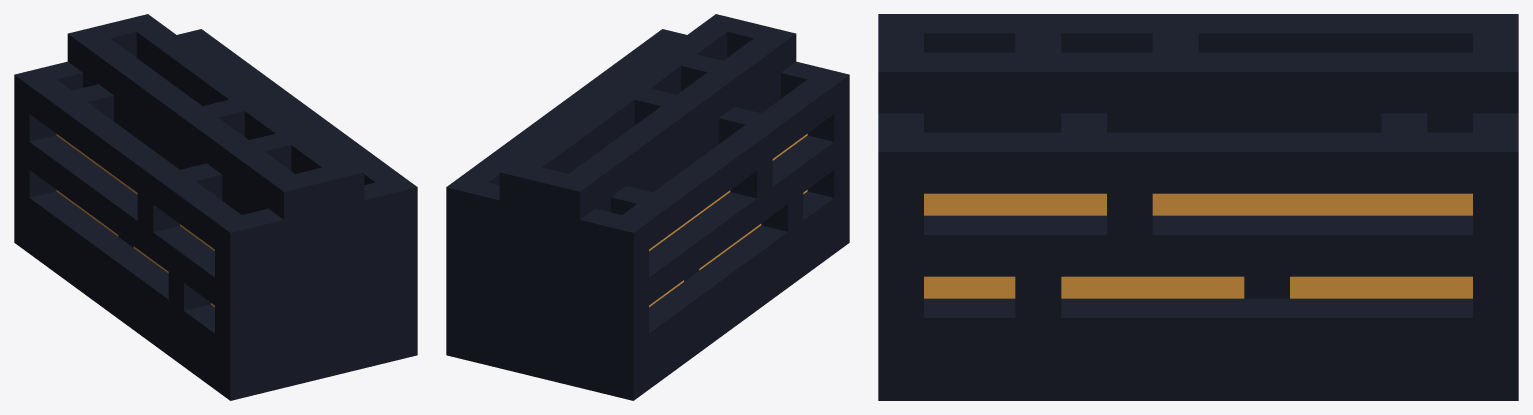
Rendered from ExtenderSmall1.obj.
3 renders of one model, left to right at view 1: azimuth 30°, elevation 25°; view 2: azimuth 150°, elevation 25°; view 3: azimuth 270°, elevation 25°, orthographic. The views are drawn at different scales.
Size of the model in its own units: 7 by 7 by 14.
